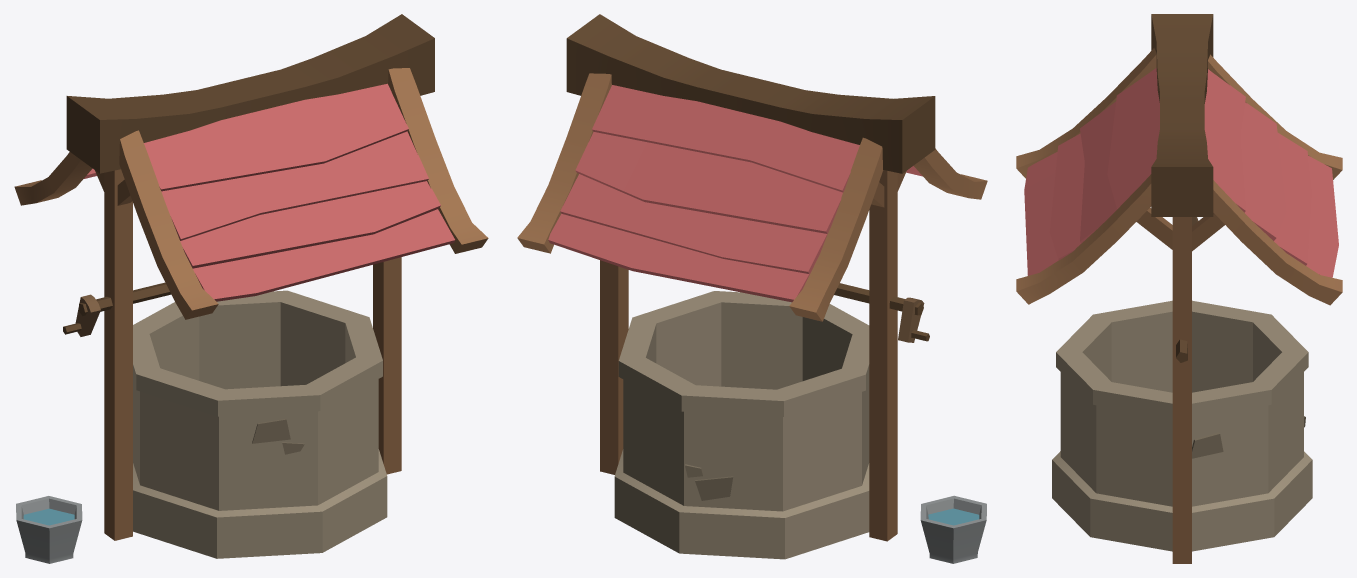
File: Puit.fbx
The picture shows the model from 3 angles, left to right: view 1: azimuth 30°, elevation 25°; view 2: azimuth 150°, elevation 25°; view 3: azimuth 270°, elevation 25°; orthographic projection. The views are drawn at different scales.
Visible parts, largest first — view 1: Corps_puit, pCube1, pasted__pasted__Tuile4_d, pasted__pasted__Tuile3_d, pCube2, pasted__pasted__Tuile2_d, pasted__pasted__Tuile1_d, pasted__pCube29, pCube3, pasted__pCube30, Seau, pasted__pCube25 (+4 smaller); view 2: Corps_puit, pCube1, pasted__pasted__Tuile3_g, pasted__pasted__Tuile4_g, pasted__pasted__Tuile2_g, pCube2, pasted__pasted__Tuile1_g, pasted__pCube25, pCube3, pasted__pCube28, Seau, pasted__pCube29 (+4 smaller); view 3: Corps_puit, pCube1, pCube3, pasted__pasted__Tuile4_d, pasted__pasted__Tuile3_g, pasted__pasted__Tuile4_g, pasted__pCube30, pasted__pCube28, pasted__pasted__Tuile3_d, pasted__pasted__Tuile2_g, pasted__pasted__Tuile2_d, pasted__pasted__Tuile1_d (+6 smaller).
Boxes of the visible parts, x1=… form: Corps_puit: x1=133, y1=290, x2=387, y2=558; pCube1: x1=66, y1=14, x2=434, y2=173; pasted__pasted__Tuile4_d: x1=144, y1=83, x2=408, y2=191; pasted__pasted__Tuile3_d: x1=161, y1=131, x2=428, y2=240; pCube2: x1=104, y1=169, x2=132, y2=540; pasted__pasted__Tuile2_d: x1=180, y1=181, x2=440, y2=268; pasted__pasted__Tuile1_d: x1=193, y1=209, x2=455, y2=301; pasted__pCube29: x1=119, y1=130, x2=218, y2=319; pCube3: x1=373, y1=257, x2=401, y2=474; pasted__pCube30: x1=388, y1=68, x2=488, y2=253; Seau: x1=16, y1=496, x2=82, y2=563; pasted__pCube25: x1=14, y1=152, x2=92, y2=205; Corps_puit: x1=614, y1=291, x2=869, y2=559; pCube1: x1=566, y1=14, x2=935, y2=173; pasted__pasted__Tuile3_g: x1=575, y1=132, x2=842, y2=233; pasted__pasted__Tuile4_g: x1=592, y1=85, x2=859, y2=192; pasted__pasted__Tuile2_g: x1=560, y1=174, x2=827, y2=274; pCube2: x1=869, y1=170, x2=897, y2=541; pasted__pasted__Tuile1_g: x1=548, y1=213, x2=809, y2=302; pasted__pCube25: x1=789, y1=137, x2=883, y2=321; pCube3: x1=600, y1=260, x2=628, y2=474; pasted__pCube28: x1=517, y1=73, x2=611, y2=253; Seau: x1=920, y1=495, x2=986, y2=563; pasted__pCube29: x1=913, y1=148, x2=987, y2=199; Corps_puit: x1=1052, y1=300, x2=1312, y2=551; pCube1: x1=1151, y1=14, x2=1213, y2=216; pCube3: x1=1172, y1=217, x2=1191, y2=563; pasted__pasted__Tuile4_d: x1=1107, y1=68, x2=1159, y2=208; pasted__pasted__Tuile3_g: x1=1240, y1=102, x2=1286, y2=240; pasted__pasted__Tuile4_g: x1=1204, y1=69, x2=1245, y2=212; pasted__pCube30: x1=1016, y1=174, x2=1151, y2=304; pasted__pCube28: x1=1213, y1=180, x2=1342, y2=305; pasted__pasted__Tuile3_d: x1=1080, y1=101, x2=1117, y2=243; pasted__pasted__Tuile2_g: x1=1274, y1=133, x2=1311, y2=265; pasted__pasted__Tuile2_d: x1=1049, y1=133, x2=1084, y2=260; pasted__pasted__Tuile1_d: x1=1024, y1=152, x2=1058, y2=275.
Size of the model in its own units: 272 by 277 by 201.
